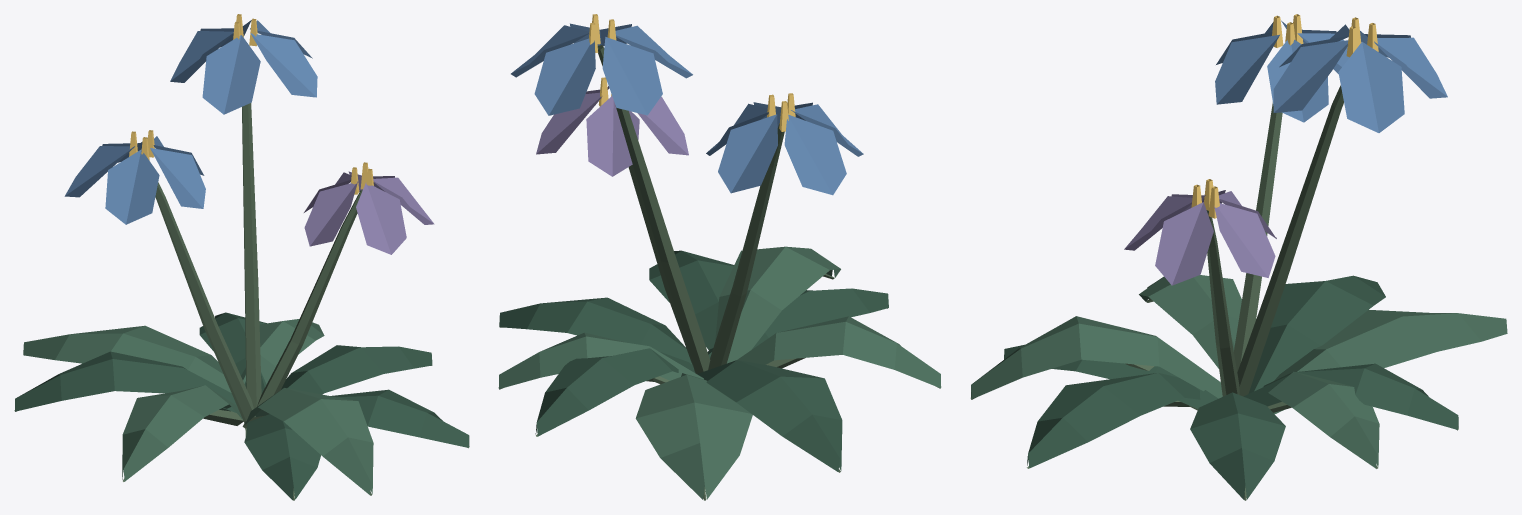
The model's file is lioraen_lume_bloom.glb.
3 views of the same model, side by side, from view 1: azimuth 30°, elevation 25°; view 2: azimuth 150°, elevation 25°; view 3: azimuth 270°, elevation 25° (orthographic). The views are drawn at different scales.
Parts seen in each view (by area): view 1: Lioraen moonbell flowering fern; view 2: Lioraen moonbell flowering fern; view 3: Lioraen moonbell flowering fern.
Boxes of the visible parts, x1,y1,x2,y2 form: Lioraen moonbell flowering fern: (14,14,469,500); Lioraen moonbell flowering fern: (498,14,941,500); Lioraen moonbell flowering fern: (970,14,1507,500).
Bounding box in the file's own units: 1.07 × 1.02 × 1.19.
